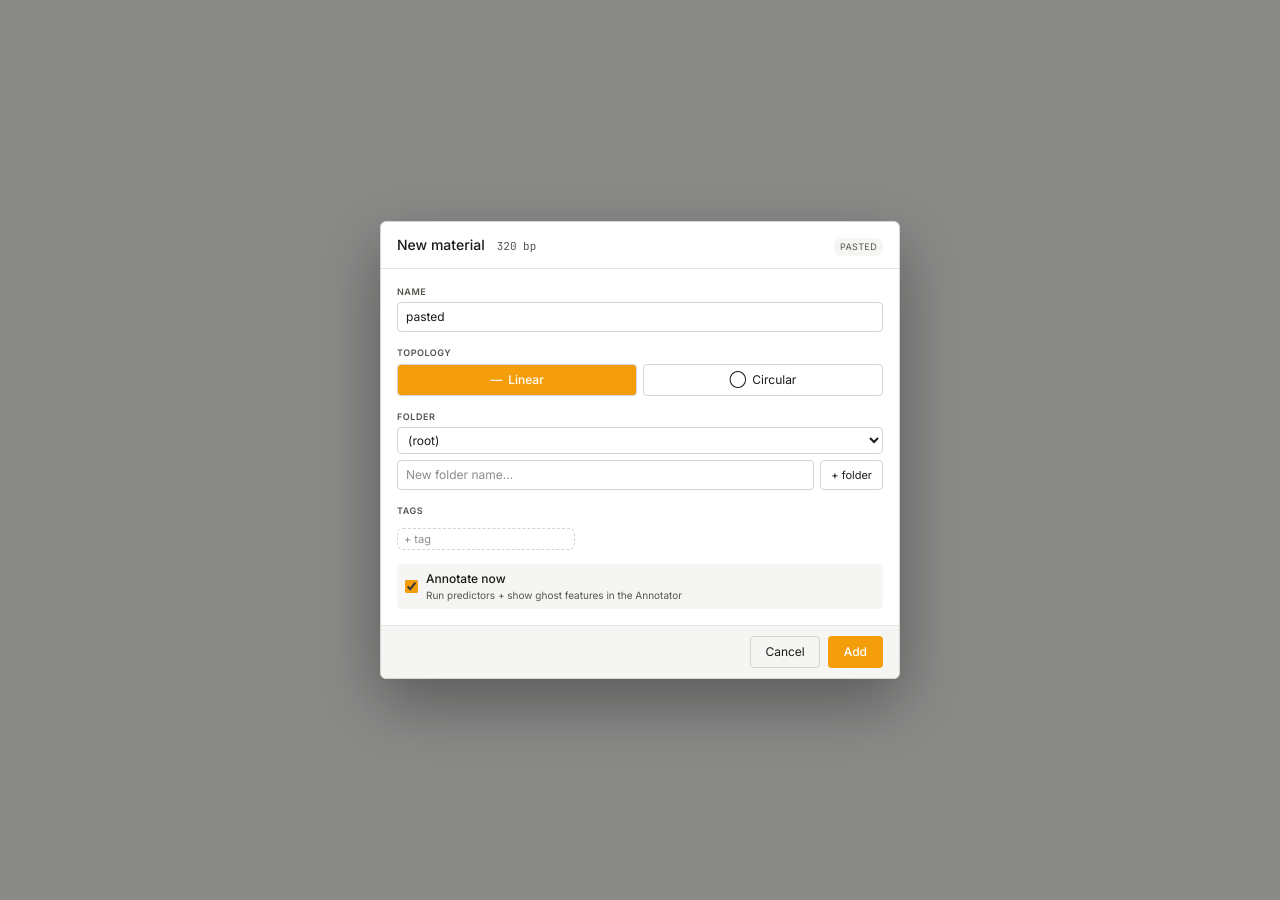
Test case: PreImportModal — folder picker (+ button + sections) › clicking + folder selects the new folder in the dropdown
Type "Vectors" into the field with test id "pre-import-new-folder-input" at (606, 475), box [397, 460, 814, 490]
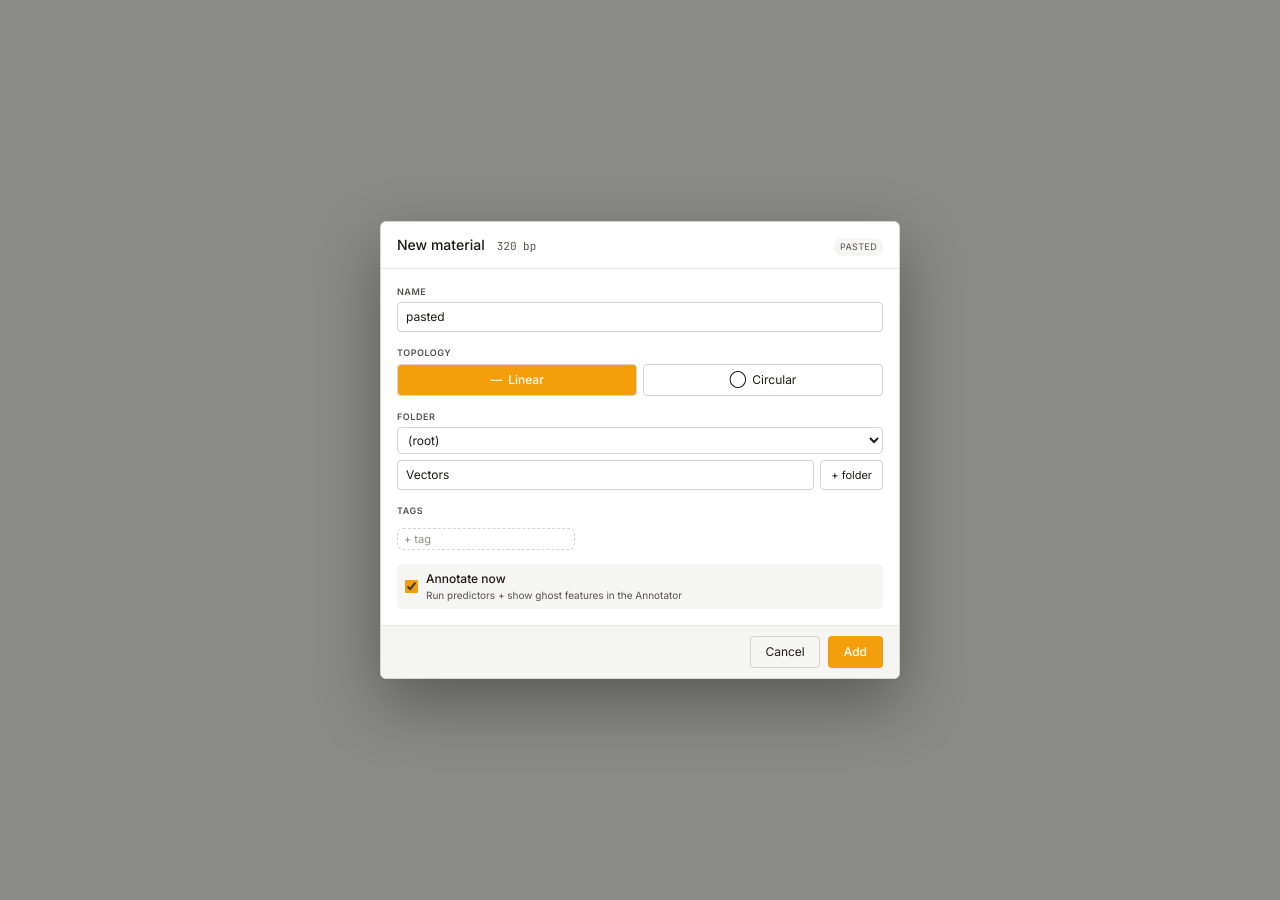
Click the button with test id "pre-import-new-folder-add" at (852, 475), box [820, 460, 883, 490]
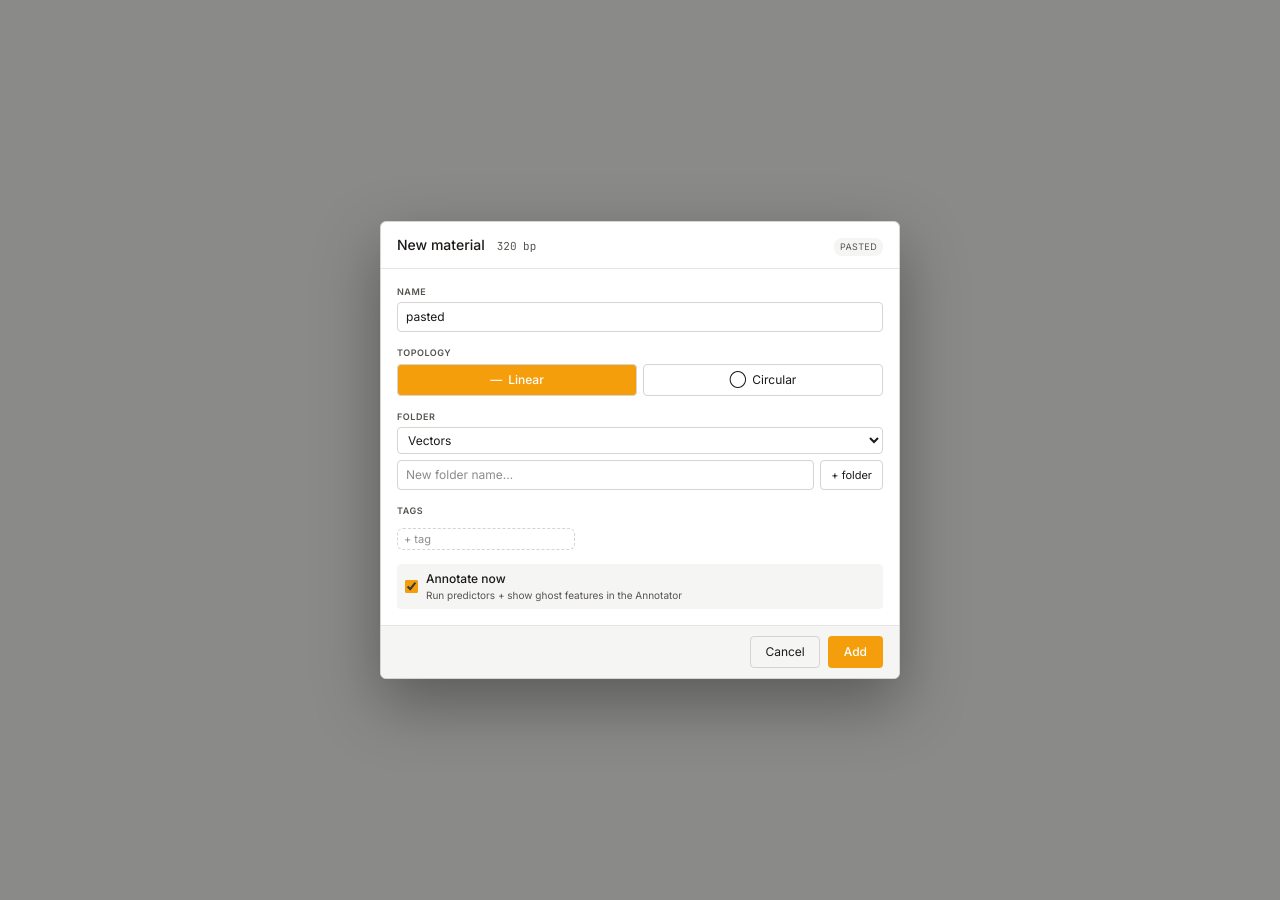
Expected: the field with test id "pre-import-new-folder-input" is empty, [397, 460, 814, 490]
Expected: the dropdown with test id "pre-import-folder" shows "Vectors", [397, 427, 883, 454]
